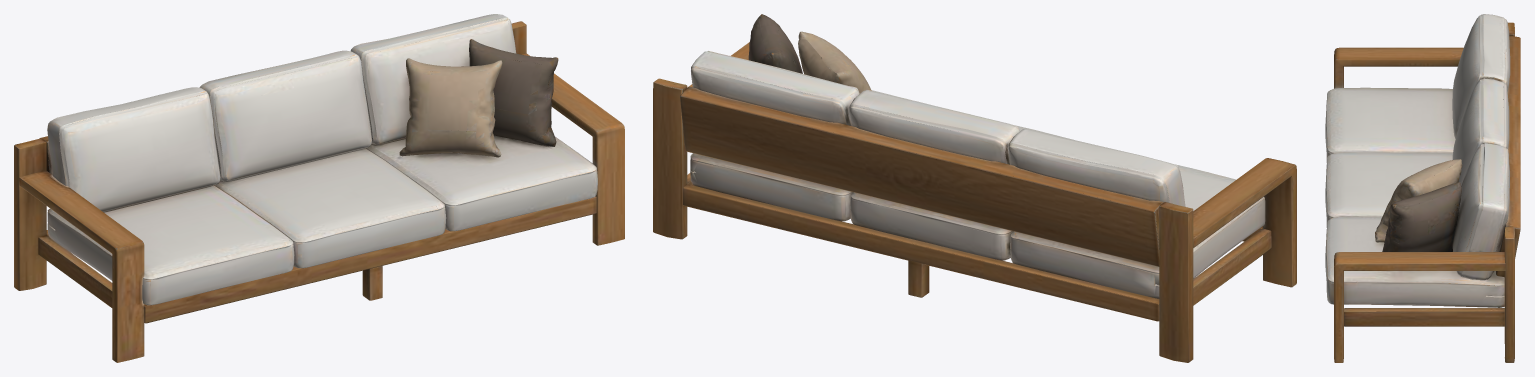
The model's file is lounge-sofa.glb.
The picture shows the model from 3 angles, left to right: view 1: azimuth 30°, elevation 25°; view 2: azimuth 150°, elevation 25°; view 3: azimuth 270°, elevation 25°; orthographic projection. The views are drawn at different scales.
Visible parts, largest first — view 1: tripo_node_b6be7d07-a290-4c57-9a41-c51c2c0403d8; view 2: tripo_node_b6be7d07-a290-4c57-9a41-c51c2c0403d8; view 3: tripo_node_b6be7d07-a290-4c57-9a41-c51c2c0403d8.
Part boxes in pixels (x1=…): tripo_node_b6be7d07-a290-4c57-9a41-c51c2c0403d8: x1=14, y1=14, x2=624, y2=362; tripo_node_b6be7d07-a290-4c57-9a41-c51c2c0403d8: x1=653, y1=14, x2=1296, y2=362; tripo_node_b6be7d07-a290-4c57-9a41-c51c2c0403d8: x1=1325, y1=14, x2=1520, y2=362.
Bounding box in the file's own units: 2.19 × 0.6994 × 0.8394.
1 material, 1 textured.
